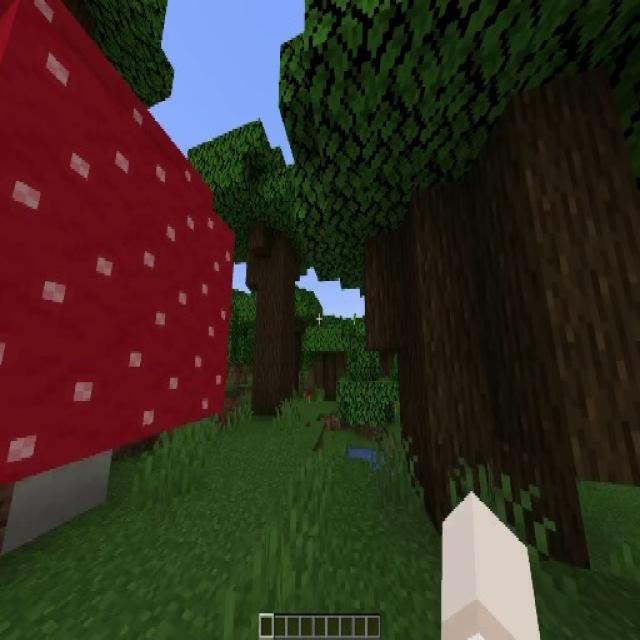dark_oak: (336, 5, 640, 567), (222, 135, 315, 418), (308, 316, 349, 403)
dark_oak_log: (401, 115, 622, 543), (250, 251, 295, 414), (323, 353, 336, 401)
